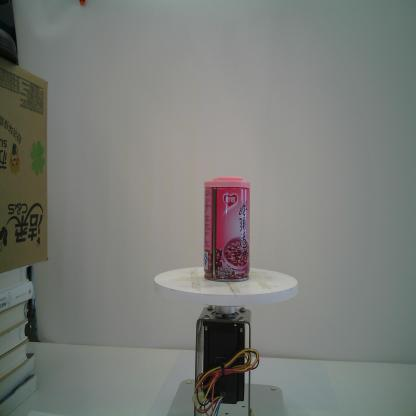Canned Food: (203, 177, 250, 282)
